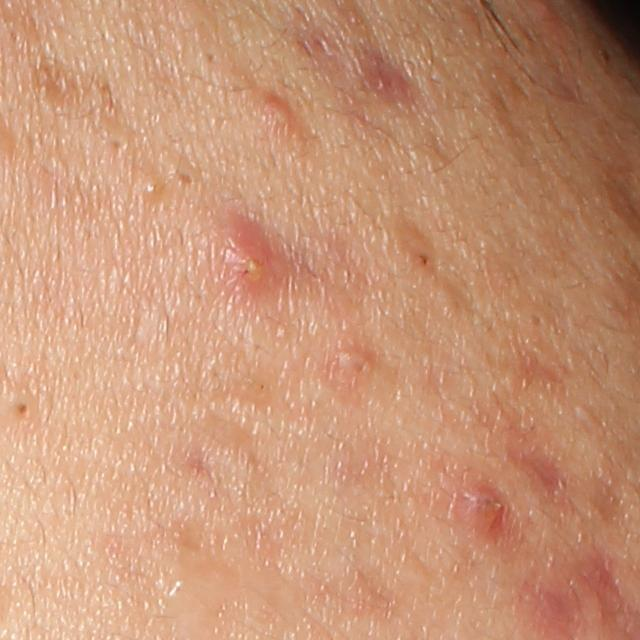comedo: (435, 276, 469, 322), (168, 159, 206, 195), (189, 43, 229, 76), (104, 129, 140, 162), (6, 390, 38, 424), (137, 174, 167, 206), (527, 307, 548, 331)
papule: (448, 484, 515, 551), (250, 89, 295, 136), (331, 344, 376, 382)
